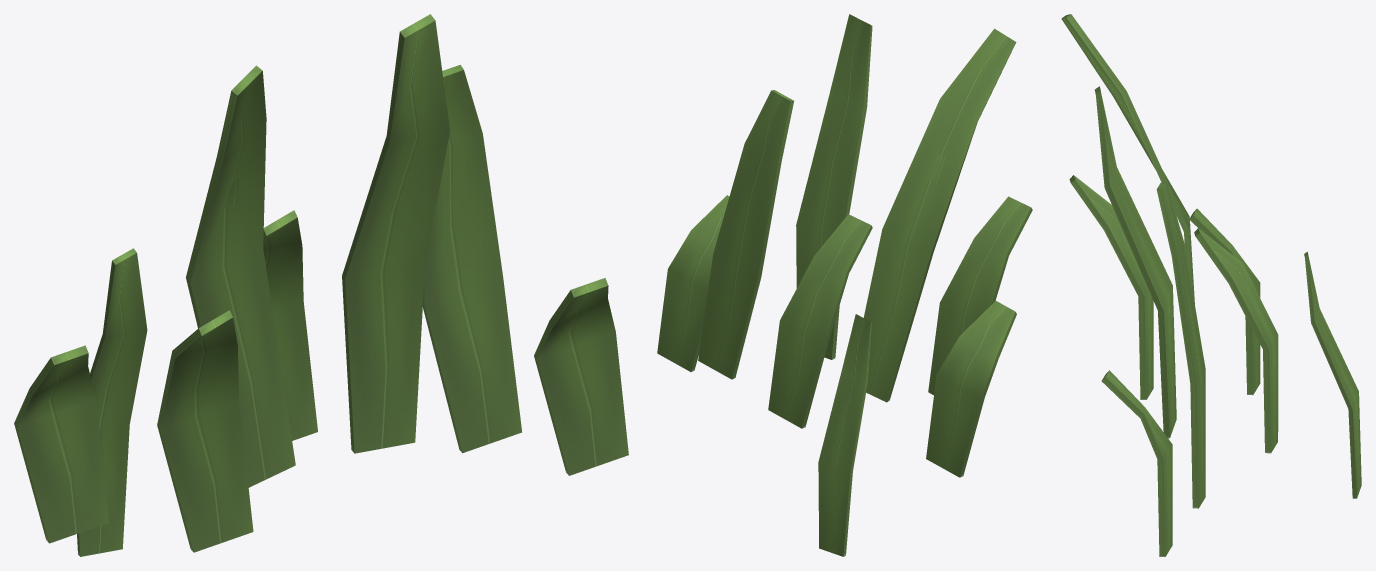
The model's file is Gras.fbx.
3 views of the same model, side by side, from view 1: azimuth 30°, elevation 25°; view 2: azimuth 150°, elevation 25°; view 3: azimuth 270°, elevation 25° (orthographic). The views are drawn at different scales.
Parts seen in each view (by area): view 1: pCube4; view 2: pCube4; view 3: pCube4.
Part boxes in pixels (bbox=[...]): pCube4: bbox=[14, 14, 628, 556]; pCube4: bbox=[657, 14, 1032, 556]; pCube4: bbox=[1061, 14, 1361, 556].
Bounding box in the file's own units: 1.06 × 1.18 × 0.6917.
1 material, 1 textured.
